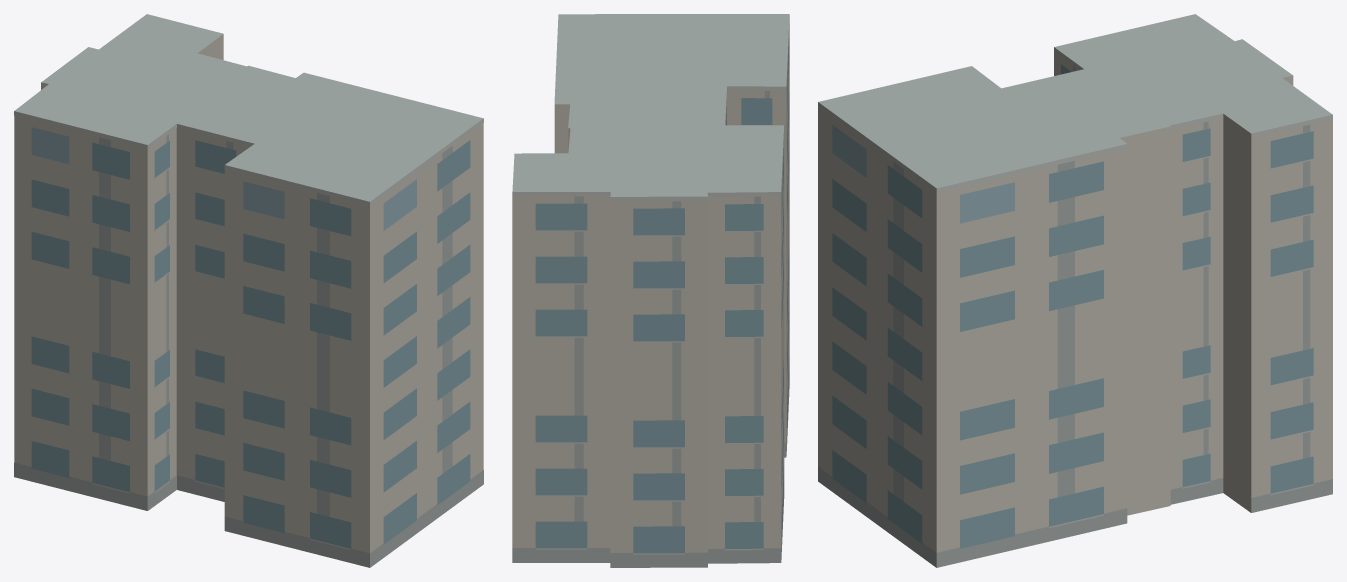
File: survey-upis-32904697.glb
3 views of the same model, side by side, from view 1: azimuth 30°, elevation 25°; view 2: azimuth 150°, elevation 25°; view 3: azimuth 270°, elevation 25° (orthographic). The views are drawn at different scales.
Parts seen in each view (by area): view 1: survey-upis-32904697.tmp; view 2: survey-upis-32904697.tmp; view 3: survey-upis-32904697.tmp.
Boxes of the visible parts, x1,y1,x2,y2 form: survey-upis-32904697.tmp: (14,14,483,567); survey-upis-32904697.tmp: (512,14,789,567); survey-upis-32904697.tmp: (818,14,1332,567).
Size of the model in its own units: 19.72 by 20 by 24.6.
